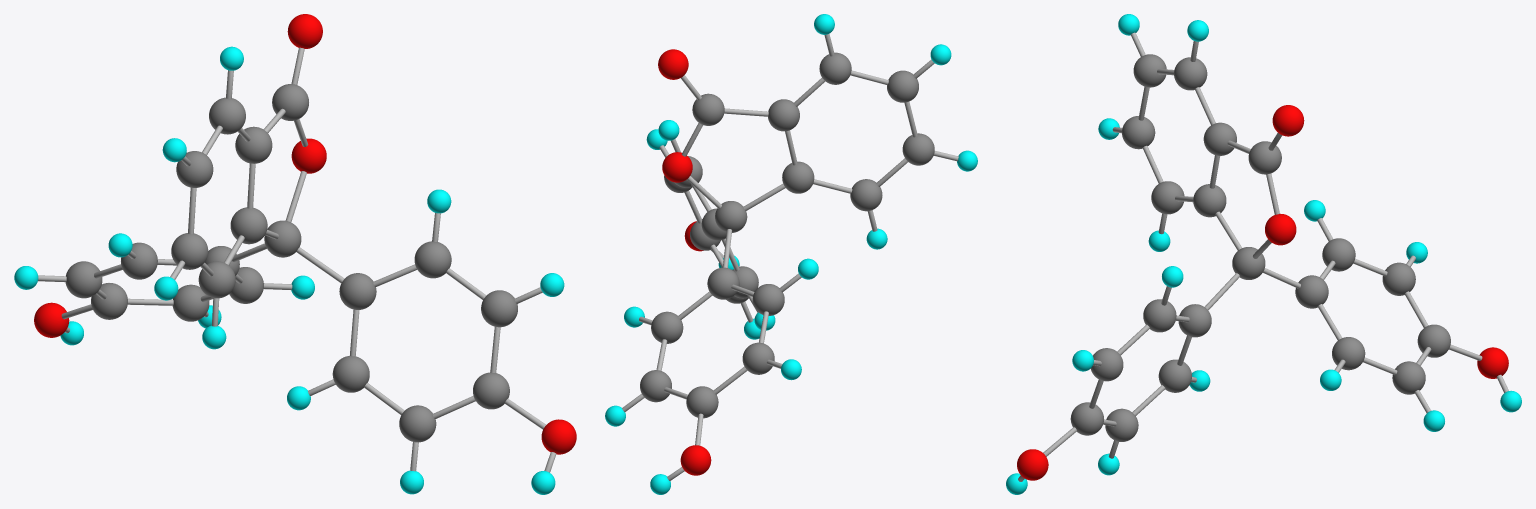
The model's file is phenolphthalein.glb.
The picture shows the model from 3 angles, left to right: view 1: azimuth 30°, elevation 25°; view 2: azimuth 150°, elevation 25°; view 3: azimuth 270°, elevation 25°; orthographic projection. The views are drawn at different scales.
Parts seen in each view (by area): view 1: CMAtom_10, CMAtom_18, CMAtom_16, CMAtom_3, CMAtom_6, CMAtom_12, CMAtom_7, CMAtom_19, CMAtom_22, CMAtom_11, CMAtom_13, CMAtom_9 (+11 smaller); view 2: CMAtom_22, CMAtom_7, CMAtom_9, CMAtom_13, CMAtom_19, CMAtom_15, CMAtom_21, CMAtom_14, CMAtom_20, CMAtom_8, CMAtom_5, CMAtom_11 (+8 smaller); view 3: CMAtom_17, CMAtom_22, CMAtom_5, CMAtom_11, CMAtom_6, CMAtom_18, CMAtom_7, CMAtom_13, CMAtom_12, CMAtom_19, CMAtom_8, CMAtom_9 (+12 smaller).
Part boxes in pixels (x1,y1,x2,y2): CMAtom_10: [399, 405, 436, 442]; CMAtom_18: [414, 241, 451, 278]; CMAtom_16: [481, 290, 517, 327]; CMAtom_3: [339, 273, 376, 309]; CMAtom_6: [332, 356, 369, 392]; CMAtom_12: [473, 372, 509, 409]; CMAtom_7: [230, 207, 267, 244]; CMAtom_19: [171, 233, 208, 269]; CMAtom_22: [209, 97, 245, 134]; CMAtom_11: [65, 261, 102, 298]; CMAtom_13: [272, 84, 308, 120]; CMAtom_9: [235, 126, 272, 163]; CMAtom_22: [819, 52, 851, 84]; CMAtom_7: [782, 161, 814, 193]; CMAtom_9: [768, 99, 799, 131]; CMAtom_13: [692, 93, 724, 125]; CMAtom_19: [902, 133, 934, 165]; CMAtom_15: [850, 179, 882, 211]; CMAtom_21: [887, 70, 918, 102]; CMAtom_14: [686, 386, 718, 418]; CMAtom_20: [651, 311, 683, 343]; CMAtom_8: [752, 284, 784, 315]; CMAtom_5: [707, 267, 739, 299]; CMAtom_11: [742, 342, 774, 374]; CMAtom_17: [1392, 361, 1425, 394]; CMAtom_22: [1174, 57, 1207, 90]; CMAtom_5: [1295, 275, 1328, 308]; CMAtom_11: [1382, 262, 1415, 295]; CMAtom_6: [1158, 359, 1191, 392]; CMAtom_18: [1143, 299, 1176, 332]; CMAtom_7: [1193, 184, 1226, 217]; CMAtom_13: [1248, 141, 1281, 174]; CMAtom_12: [1070, 402, 1103, 435]; CMAtom_19: [1122, 116, 1155, 149]; CMAtom_8: [1322, 238, 1355, 271]; CMAtom_9: [1203, 122, 1236, 155].
Size of the model in its own units: 7.53 by 8.08 by 9.54.
